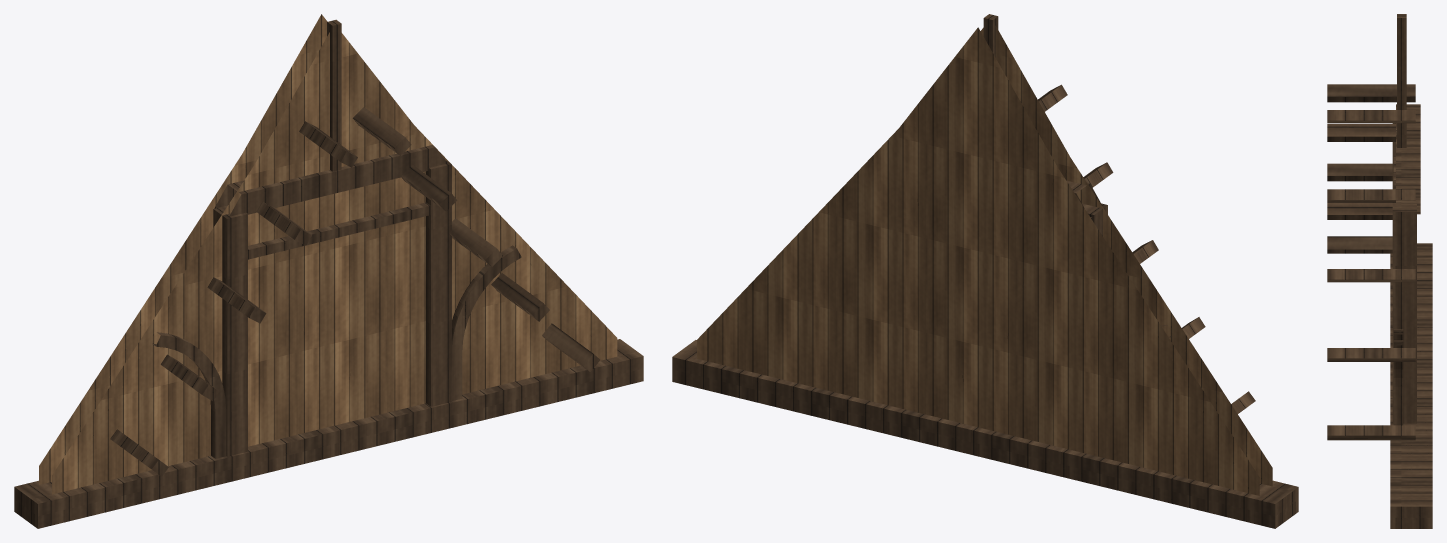
The model's file is Roof_Front_Plank6.gltf.
3 renders of one model, left to right at view 1: azimuth 30°, elevation 25°; view 2: azimuth 150°, elevation 25°; view 3: azimuth 270°, elevation 25°, orthographic. The views are drawn at different scales.
Parts seen in each view (by area): view 1: Roof_Front_Plank6; view 2: Roof_Front_Plank6; view 3: Roof_Front_Plank6.
Part boxes in pixels (x1=…): Roof_Front_Plank6: x1=14, y1=14, x2=643, y2=528; Roof_Front_Plank6: x1=672, y1=14, x2=1298, y2=528; Roof_Front_Plank6: x1=1327, y1=14, x2=1432, y2=528.
Bounding box in the file's own units: 6.69 × 4.52 × 1.13.
Materials: 2 (2 with a texture image).
